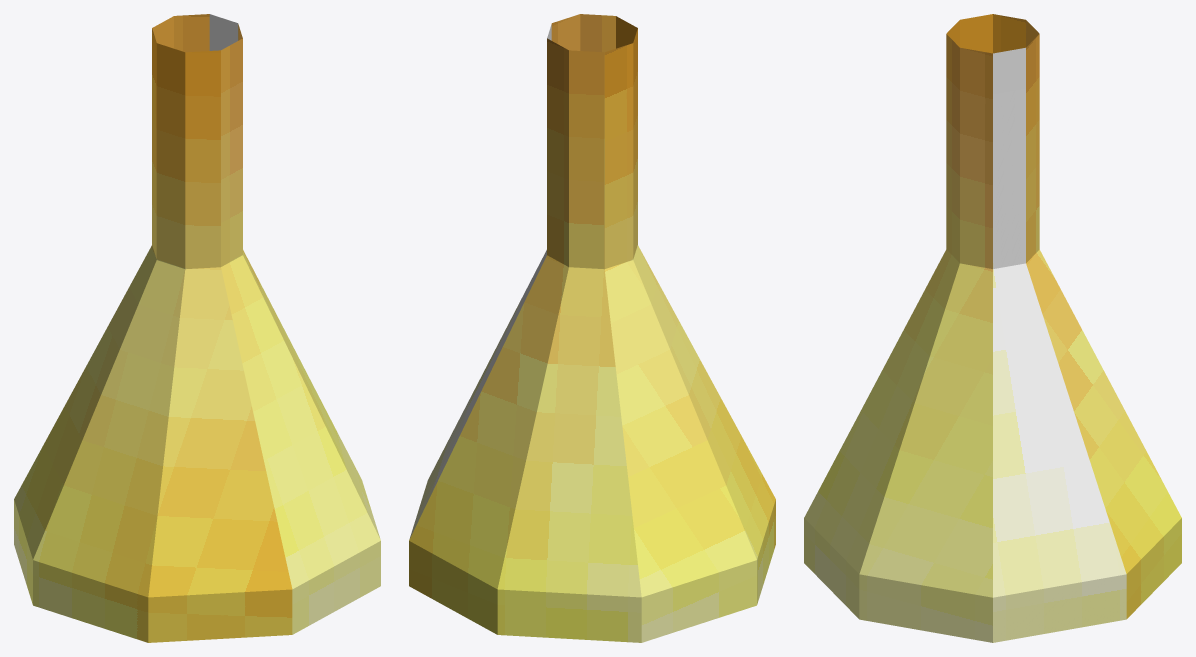
File: chemical_lab_installation_filter_out.obj
3 views of the same model, side by side, from view 1: azimuth 30°, elevation 25°; view 2: azimuth 150°, elevation 25°; view 3: azimuth 270°, elevation 25° (orthographic).
Visible parts, largest first — view 1: Cube_Cube.002; view 2: Cube_Cube.002; view 3: Cube_Cube.002.
Part boxes in pixels (x1,y1,x2,y2): Cube_Cube.002: (14, 14, 380, 642); Cube_Cube.002: (409, 14, 775, 642); Cube_Cube.002: (804, 14, 1181, 642).
Size of the model in its own units: 0.1471 by 0.2274 by 0.1471.
